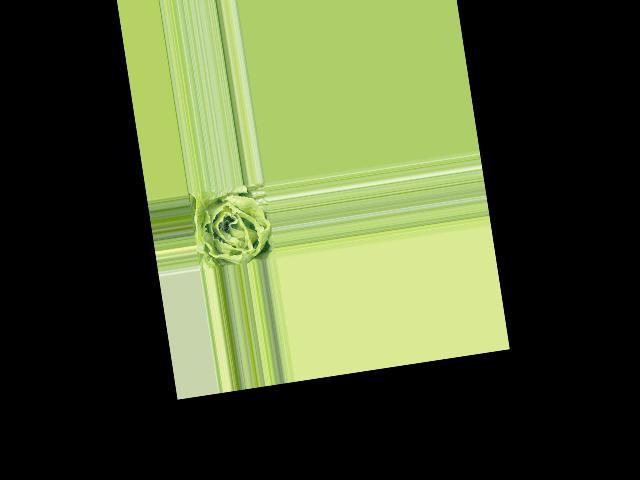lettuce: (188, 181, 275, 269)
